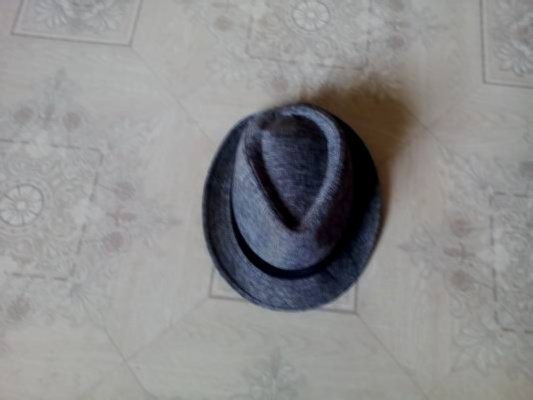Hat: (190, 84, 386, 321)
